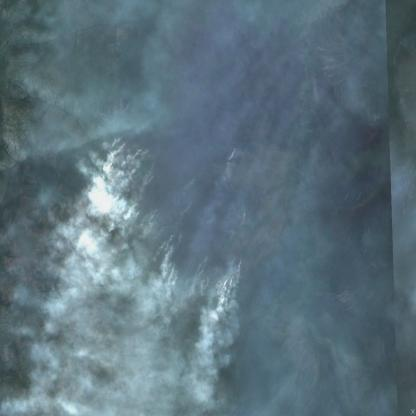fire: (109, 133, 159, 163), (162, 231, 184, 280), (218, 253, 245, 289), (134, 202, 162, 233), (220, 140, 241, 166), (198, 249, 212, 278), (185, 178, 196, 210), (236, 206, 250, 222)
